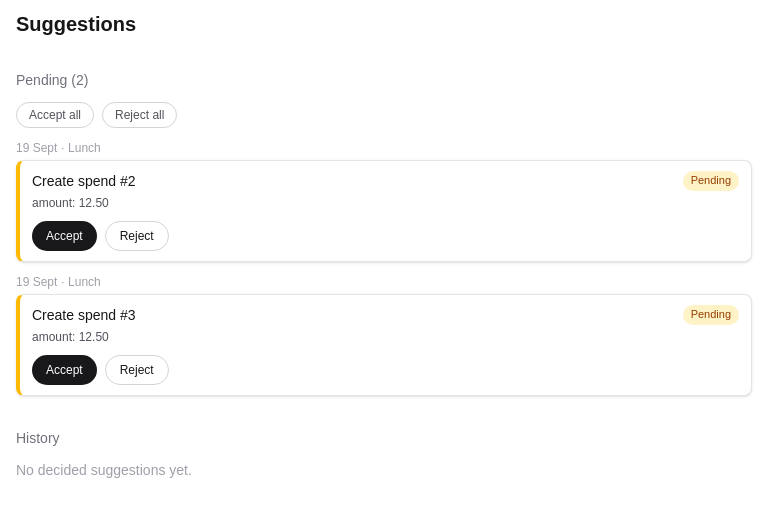
Test: SuggestionsView › keeps everything pending and shows why when deciding all is refused
Click the button "Accept all".
click(55, 115)  # box [16,102,94,128]
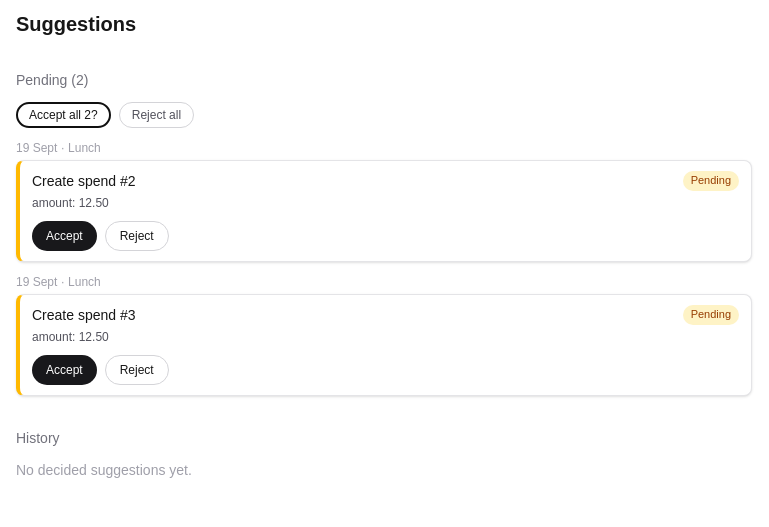
Click the button "Accept all 2?".
click(63, 115)  # box [16,102,111,128]
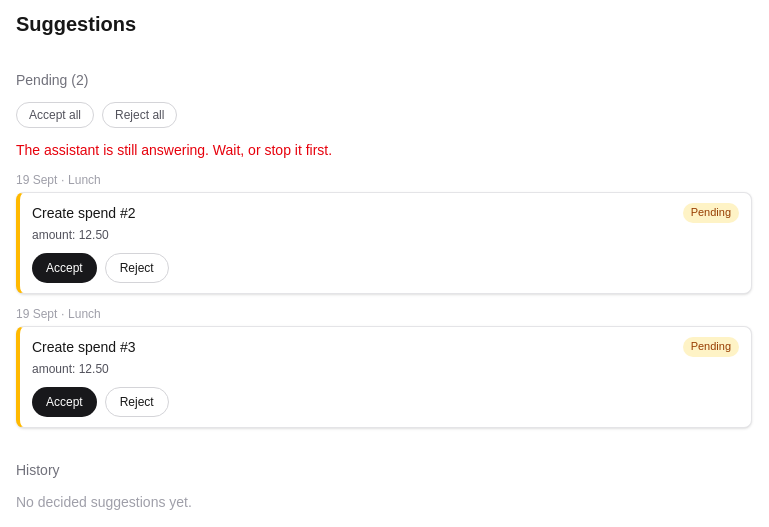
Expected: the heading "Pending (2)" is shown, [16,72,88,88]
Expected: the text "The assistant is still answering. Wait, or stop it first." is shown, [16,142,332,158]
